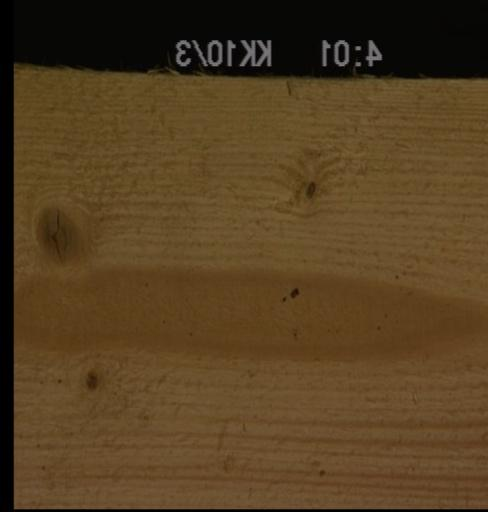small_knot: (78, 363, 102, 395), (299, 175, 319, 201)
sound_knot: (27, 203, 87, 264)
